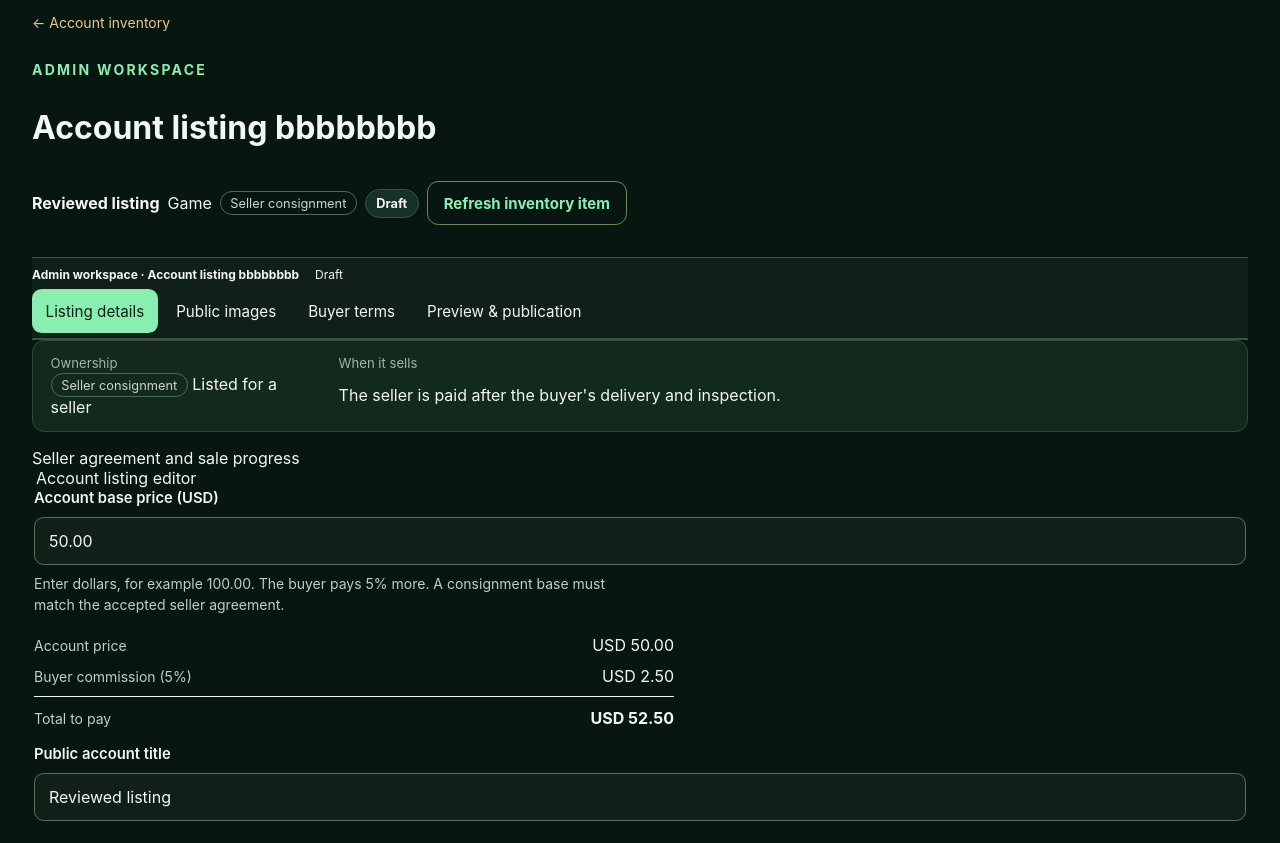
Test: keeps the edited base and one validation summary when the server rejects a consignment reprice
The image size is (1280, 843).
Replace the text in the field labelled "Account base price (USD)" with "60". click: {"x": 640, "y": 541}
box: [34, 517, 1246, 565]
(page scrolled)
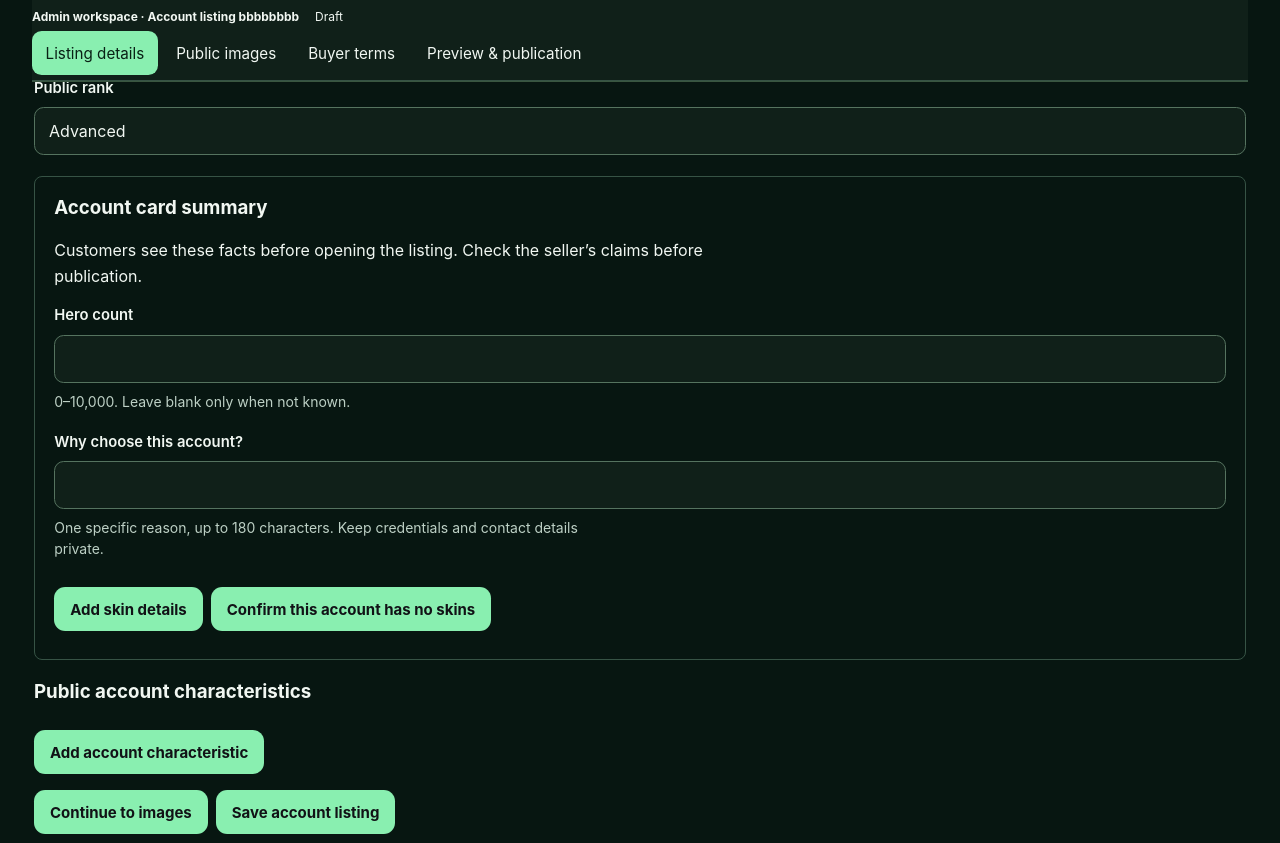
Click the button "Save account listing". click: {"x": 306, "y": 812}
box: [216, 790, 396, 834]
(page scrolled)
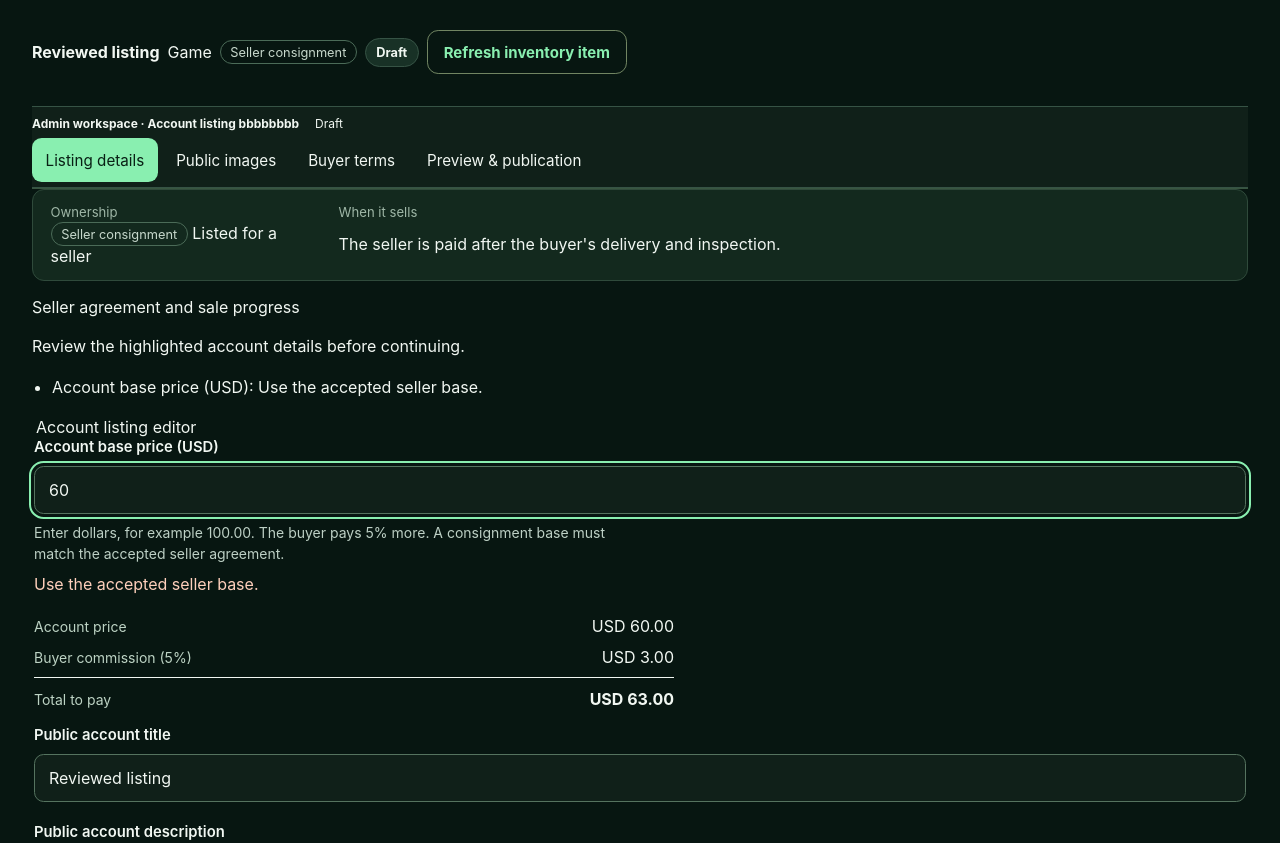
Now the number of links "Account base price (USD): Use the accepted seller base." is 1, box [52, 377, 483, 397]
